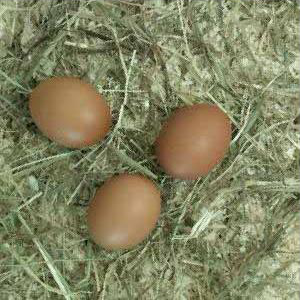egg: (29, 76, 111, 149), (154, 103, 232, 179), (87, 174, 162, 250)
